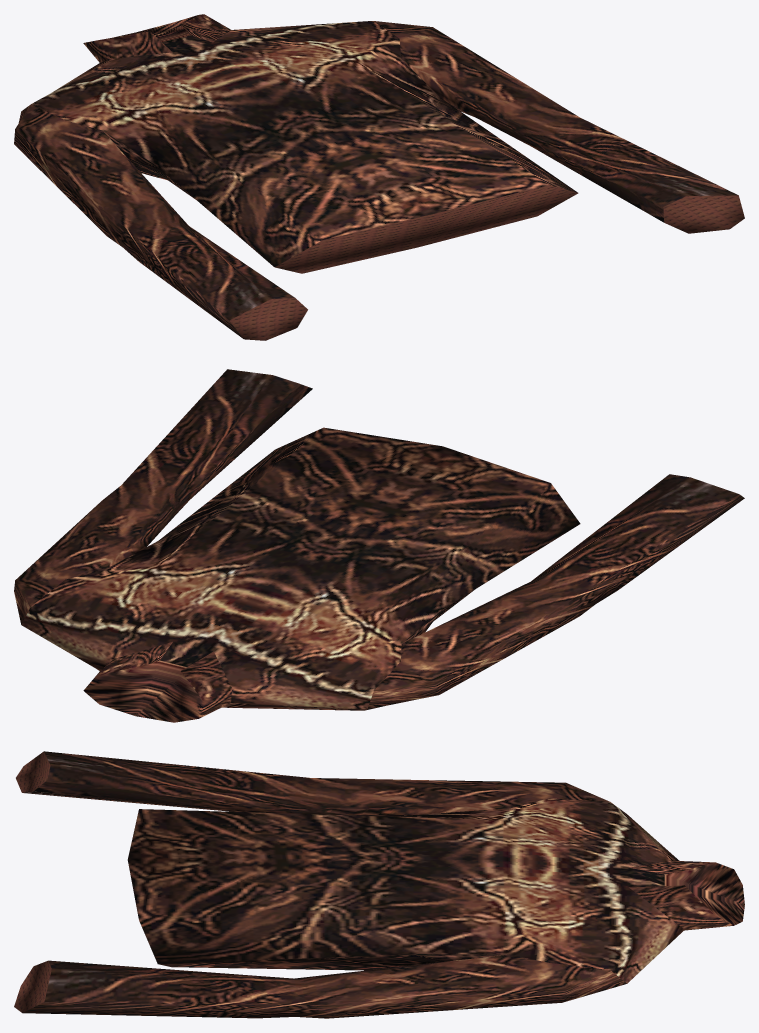
File: Ryubusa_Jacket_Male.glb
The picture shows the model from 3 angles, top to bottom: view 1: azimuth 30°, elevation 25°; view 2: azimuth 150°, elevation 25°; view 3: azimuth 270°, elevation 25°; orthographic projection.
Parts seen in each view (by area): view 1: Torso2; view 2: Torso2; view 3: Torso2.
Boxes of the visible parts, x1,y1,x2,y2 form: Torso2: (14, 14, 744, 340); Torso2: (14, 369, 744, 722); Torso2: (14, 751, 744, 1018).
Bounding box in the file's own units: 33.2 × 3.55 × 40.91.
Materials: 1 (1 with a texture image).
